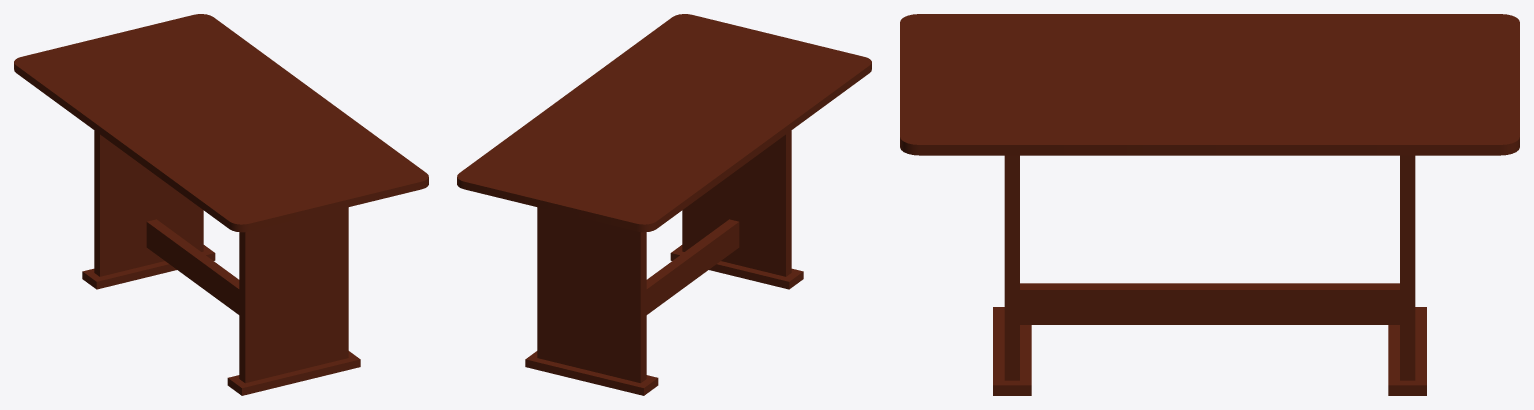
Rendered from mesaLiving.fbx.
3 views of the same model, side by side, from view 1: azimuth 30°, elevation 25°; view 2: azimuth 150°, elevation 25°; view 3: azimuth 270°, elevation 25° (orthographic). The views are drawn at different scales.
Parts seen in each view (by area): view 1: Mesa Living_1; view 2: Mesa Living_1; view 3: Mesa Living_1.
Part boxes in pixels (x1,y1,x2,y2): Mesa Living_1: [14, 14, 428, 395]; Mesa Living_1: [457, 14, 871, 395]; Mesa Living_1: [900, 14, 1519, 395].
Bounding box in the file's own units: 80 × 78.95 × 160.
